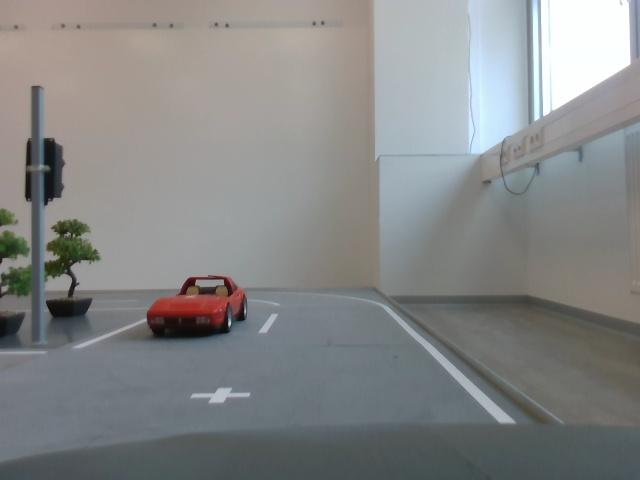car: (145, 268, 254, 349)
potted plant: (39, 222, 106, 327), (2, 206, 37, 332)
traffic light: (19, 135, 72, 210)
